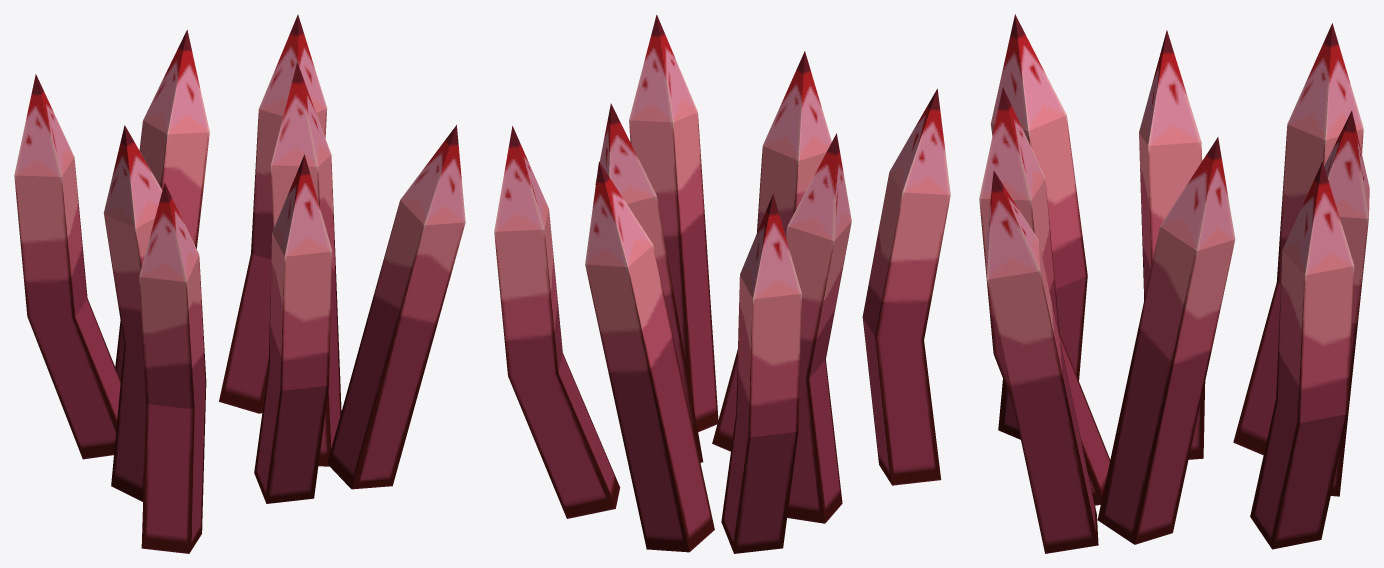
The model's file is Trap_003.fbx.
3 views of the same model, side by side, from view 1: azimuth 30°, elevation 25°; view 2: azimuth 150°, elevation 25°; view 3: azimuth 270°, elevation 25° (orthographic). The views are drawn at different scales.
Parts seen in each view (by area): view 1: trap_spike_01, trap_spike_08, trap_spike_03, trap_spike_02, trap_spike_05, trap_spike_06, trap_spike_07, trap_spike_04; view 2: trap_spike_07, trap_spike_03, trap_spike_06, trap_spike_08, trap_spike_01, trap_spike_05, trap_spike_02, trap_spike_04; view 3: trap_spike_04, trap_spike_06, trap_spike_01, trap_spike_03, trap_spike_08, trap_spike_02, trap_spike_05, trap_spike_07.
Part boxes in pixels (<box>): trap_spike_01: <box>327,125,465,489</box>; trap_spike_08: <box>14,74,120,459</box>; trap_spike_03: <box>139,183,206,553</box>; trap_spike_02: <box>254,154,332,503</box>; trap_spike_05: <box>103,125,162,501</box>; trap_spike_06: <box>219,14,327,413</box>; trap_spike_07: <box>115,30,209,380</box>; trap_spike_04: <box>270,62,341,466</box>; trap_spike_07: <box>585,161,714,552</box>; trap_spike_03: <box>862,88,950,485</box>; trap_spike_06: <box>494,125,620,518</box>; trap_spike_08: <box>721,194,801,553</box>; trap_spike_01: <box>629,14,718,432</box>; trap_spike_05: <box>785,133,851,523</box>; trap_spike_02: <box>712,51,831,451</box>; trap_spike_04: <box>595,103,703,462</box>; trap_spike_04: <box>1097,137,1235,544</box>; trap_spike_06: <box>1250,161,1354,549</box>; trap_spike_01: <box>985,170,1098,553</box>; trap_spike_03: <box>990,14,1087,439</box>; trap_spike_08: <box>1233,23,1363,455</box>; trap_spike_02: <box>979,87,1110,505</box>; trap_spike_05: <box>1139,30,1205,459</box>; trap_spike_07: <box>1324,110,1369,496</box>.
Bounding box in the file's own units: 1.76 × 2 × 1.73.
1 material, 1 textured.
